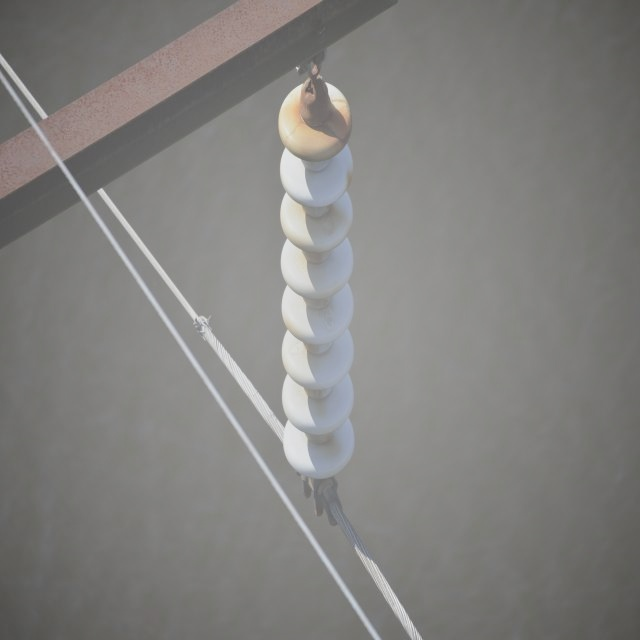insulator: (275, 81, 359, 479)
